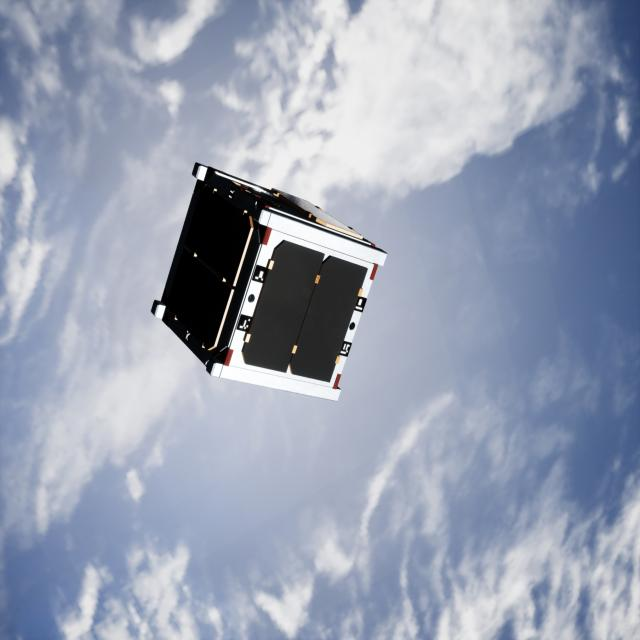medium_debris: (148, 164, 397, 402)
